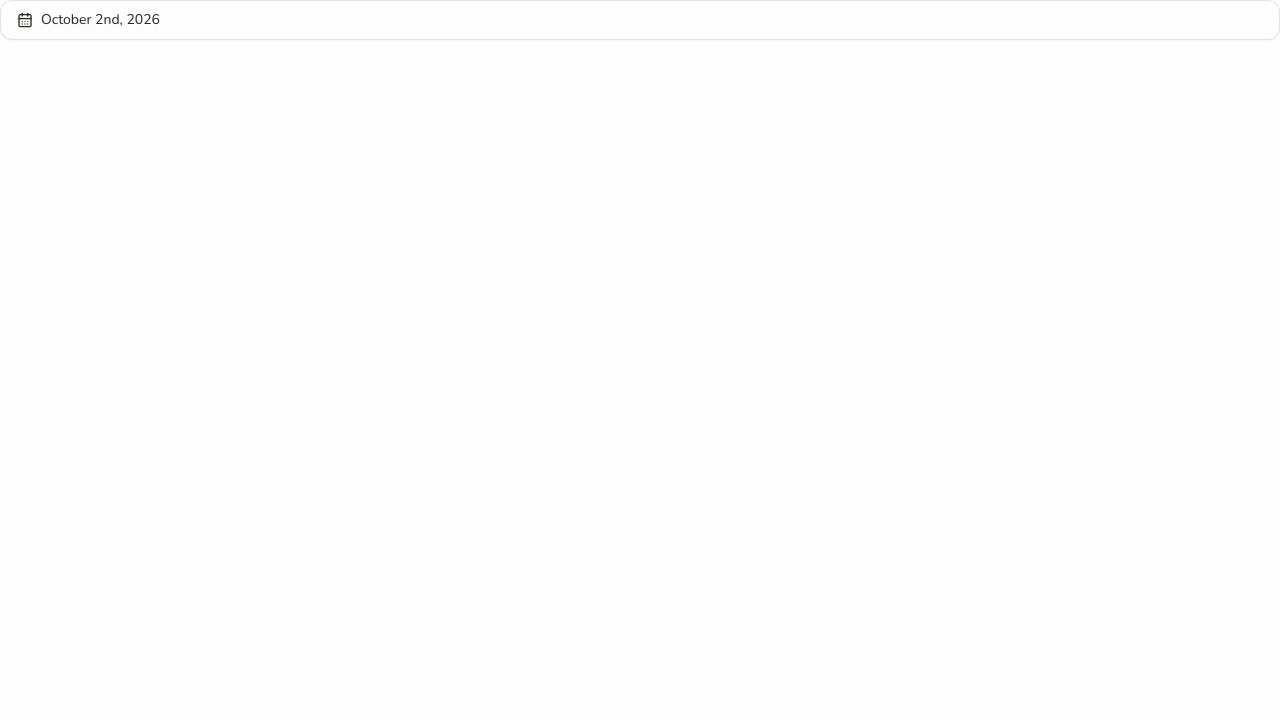
Scenario: DatePicker › emits the clicked day as YYYY-MM-DD and closes
Click the button "October 2nd, 2026": (100, 20) [0,0,1279,40]
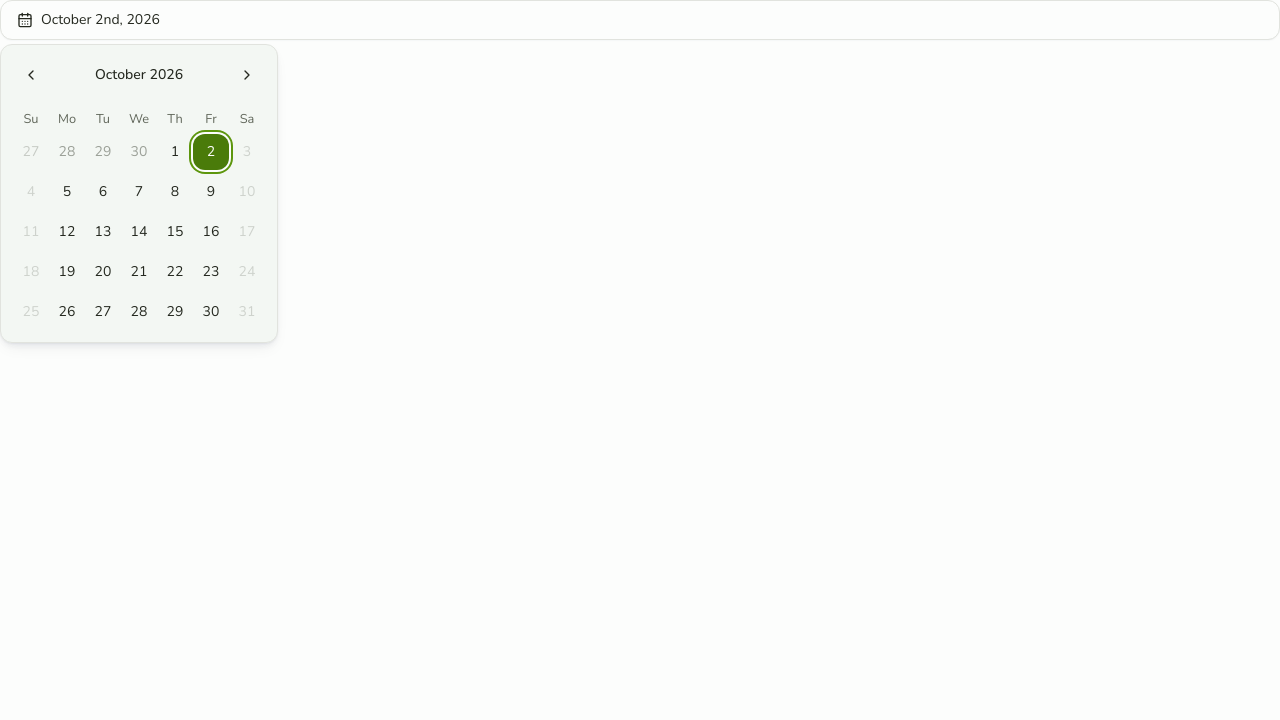
Click the button named "October 15th, 2026": (175, 232) [157,214,193,250]
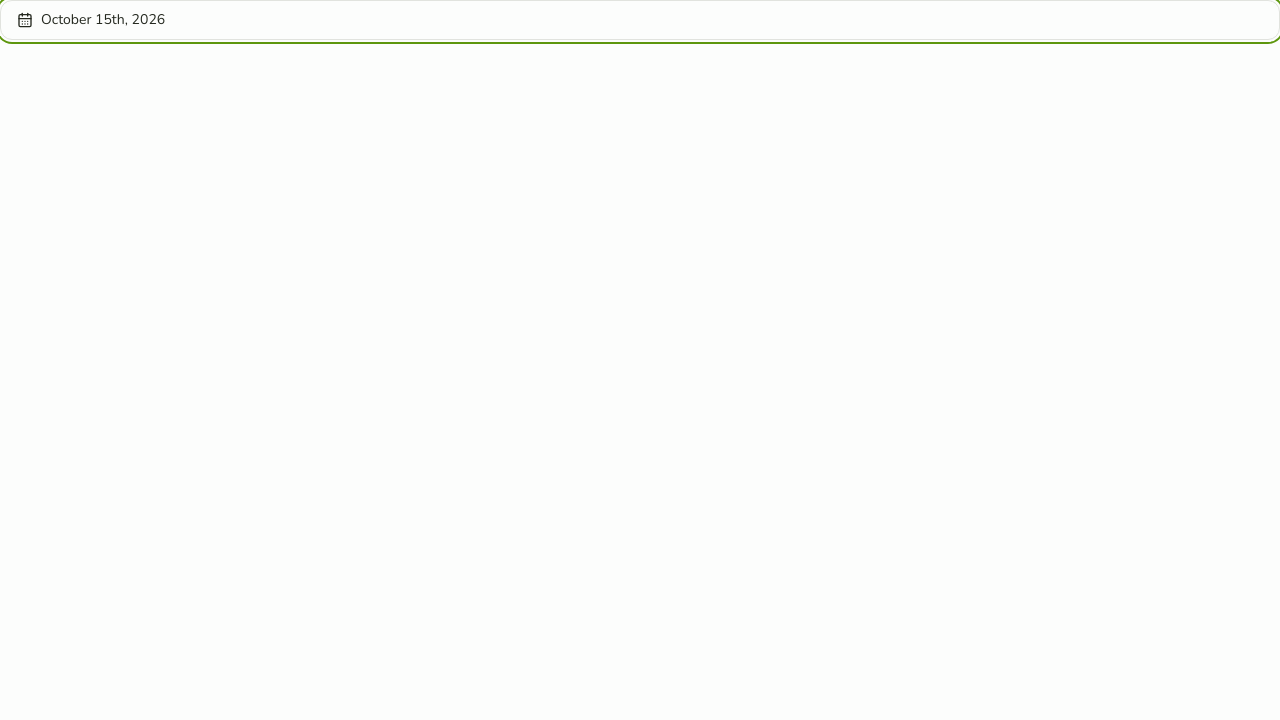
Expected: the button "October 15th, 2026" is shown, [0,0,1279,40]
